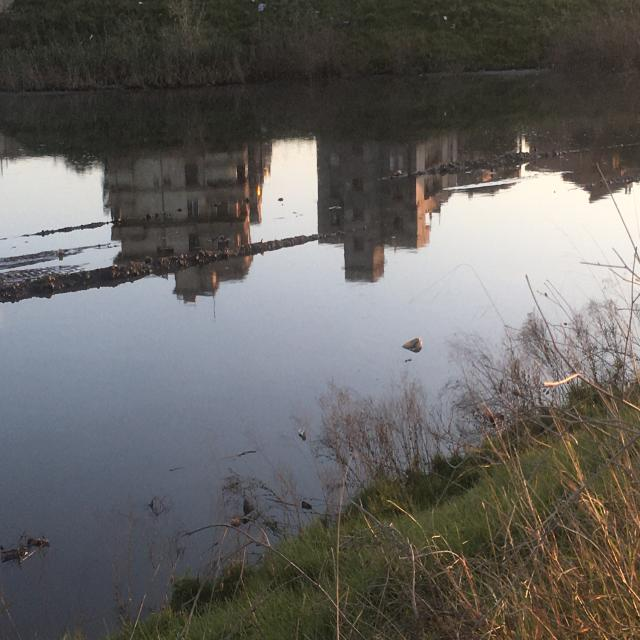Plastic bag: (401, 336, 423, 354)
Plastic bottle: (297, 425, 308, 440)
